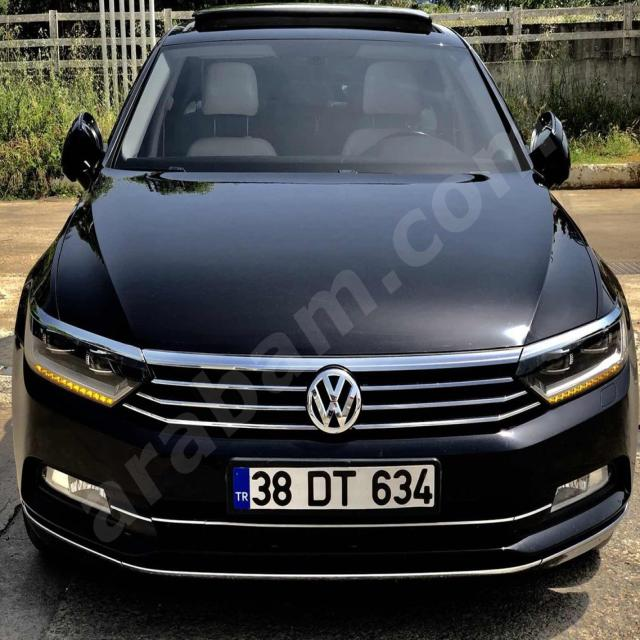license_plate: (231, 464, 437, 509)
